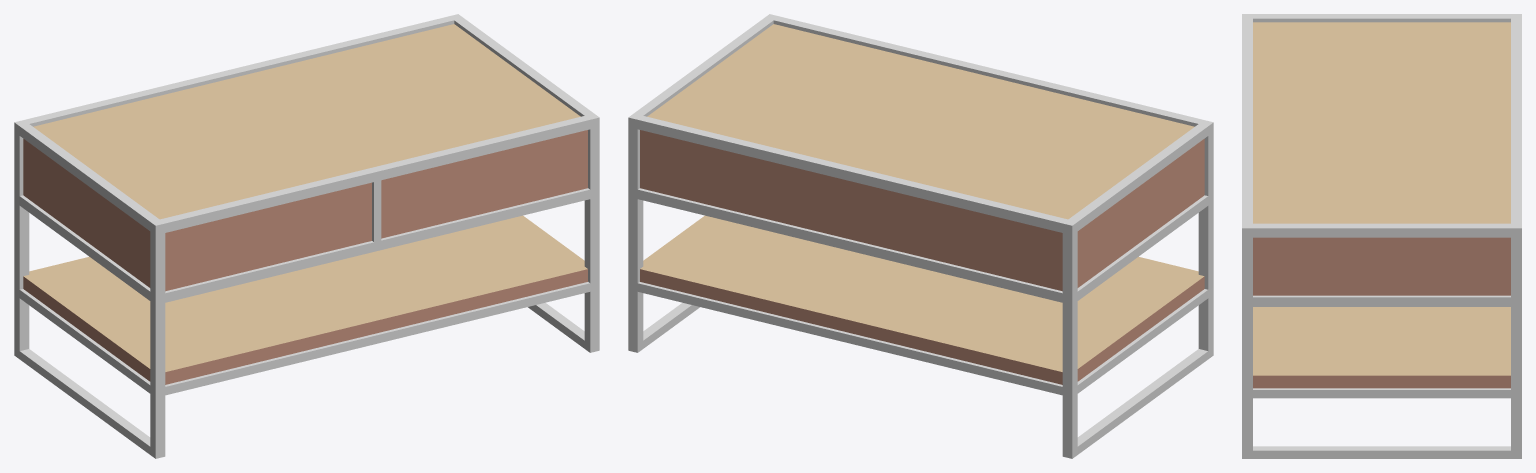
File: Smart_Table.fbx
The picture shows the model from 3 angles, left to right: view 1: azimuth 30°, elevation 25°; view 2: azimuth 150°, elevation 25°; view 3: azimuth 270°, elevation 25°; orthographic projection.
Parts seen in each view (by area): view 1: Smart_Table; view 2: Smart_Table; view 3: Smart_Table.
Boxes of the visible parts, <box> form: Smart_Table: <box>14,14,599,458</box>; Smart_Table: <box>628,14,1213,458</box>; Smart_Table: <box>1242,14,1521,458</box>.
Bounding box in the file's own units: 3.71 × 1.86 × 2.05.
